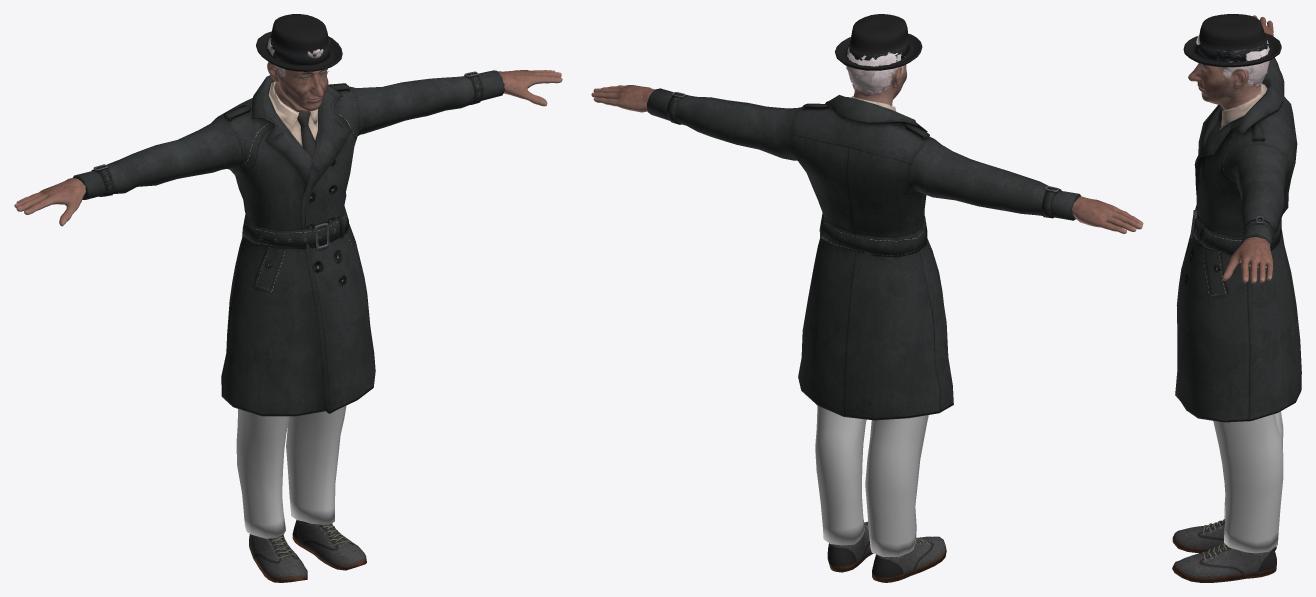
File: gauss.obj
3 renders of one model, left to right at view 1: azimuth 30°, elevation 25°; view 2: azimuth 150°, elevation 25°; view 3: azimuth 270°, elevation 25°, orthographic.
Parts seen in each view (by area): view 1: Tops, Bottoms, Body, Shoes, Hats; view 2: Tops, Bottoms, Body, Hats, Shoes, Hair; view 3: Tops, Bottoms, Shoes, Body, Hats, Hair.
Part boxes in pixels (box(x1,y1,x2,y2)): Tops: box(73, 70, 504, 416); Bottoms: box(236, 405, 346, 538); Body: box(14, 62, 562, 226); Shoes: box(249, 520, 366, 582); Hats: box(256, 14, 342, 71); Tops: box(647, 88, 1080, 420); Bottoms: box(815, 405, 928, 556); Body: box(591, 64, 1143, 233); Hats: box(835, 14, 922, 70); Shoes: box(827, 521, 946, 582); Hair: box(846, 47, 904, 95); Tops: box(1175, 33, 1301, 422); Bottoms: box(1213, 411, 1283, 553); Shoes: box(1172, 518, 1276, 582); Body: box(1188, 15, 1273, 283); Hats: box(1183, 14, 1281, 67); Hair: box(1196, 34, 1269, 87).
Size of the model in its own units: 193 by 181 by 39.58.
